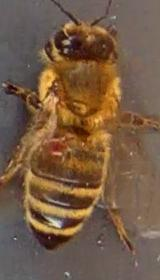varroa_mite: (38, 134, 78, 166)
